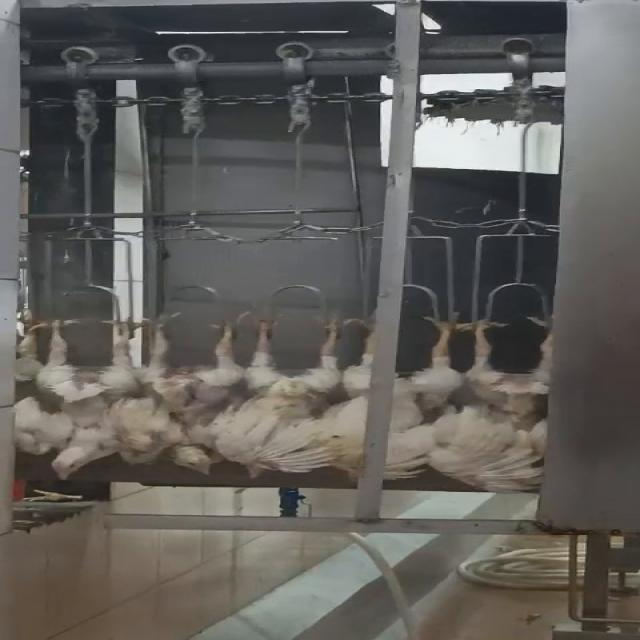chicken: (222, 310, 368, 482), (338, 309, 464, 489), (12, 315, 146, 482), (439, 309, 555, 496), (142, 309, 267, 478)
